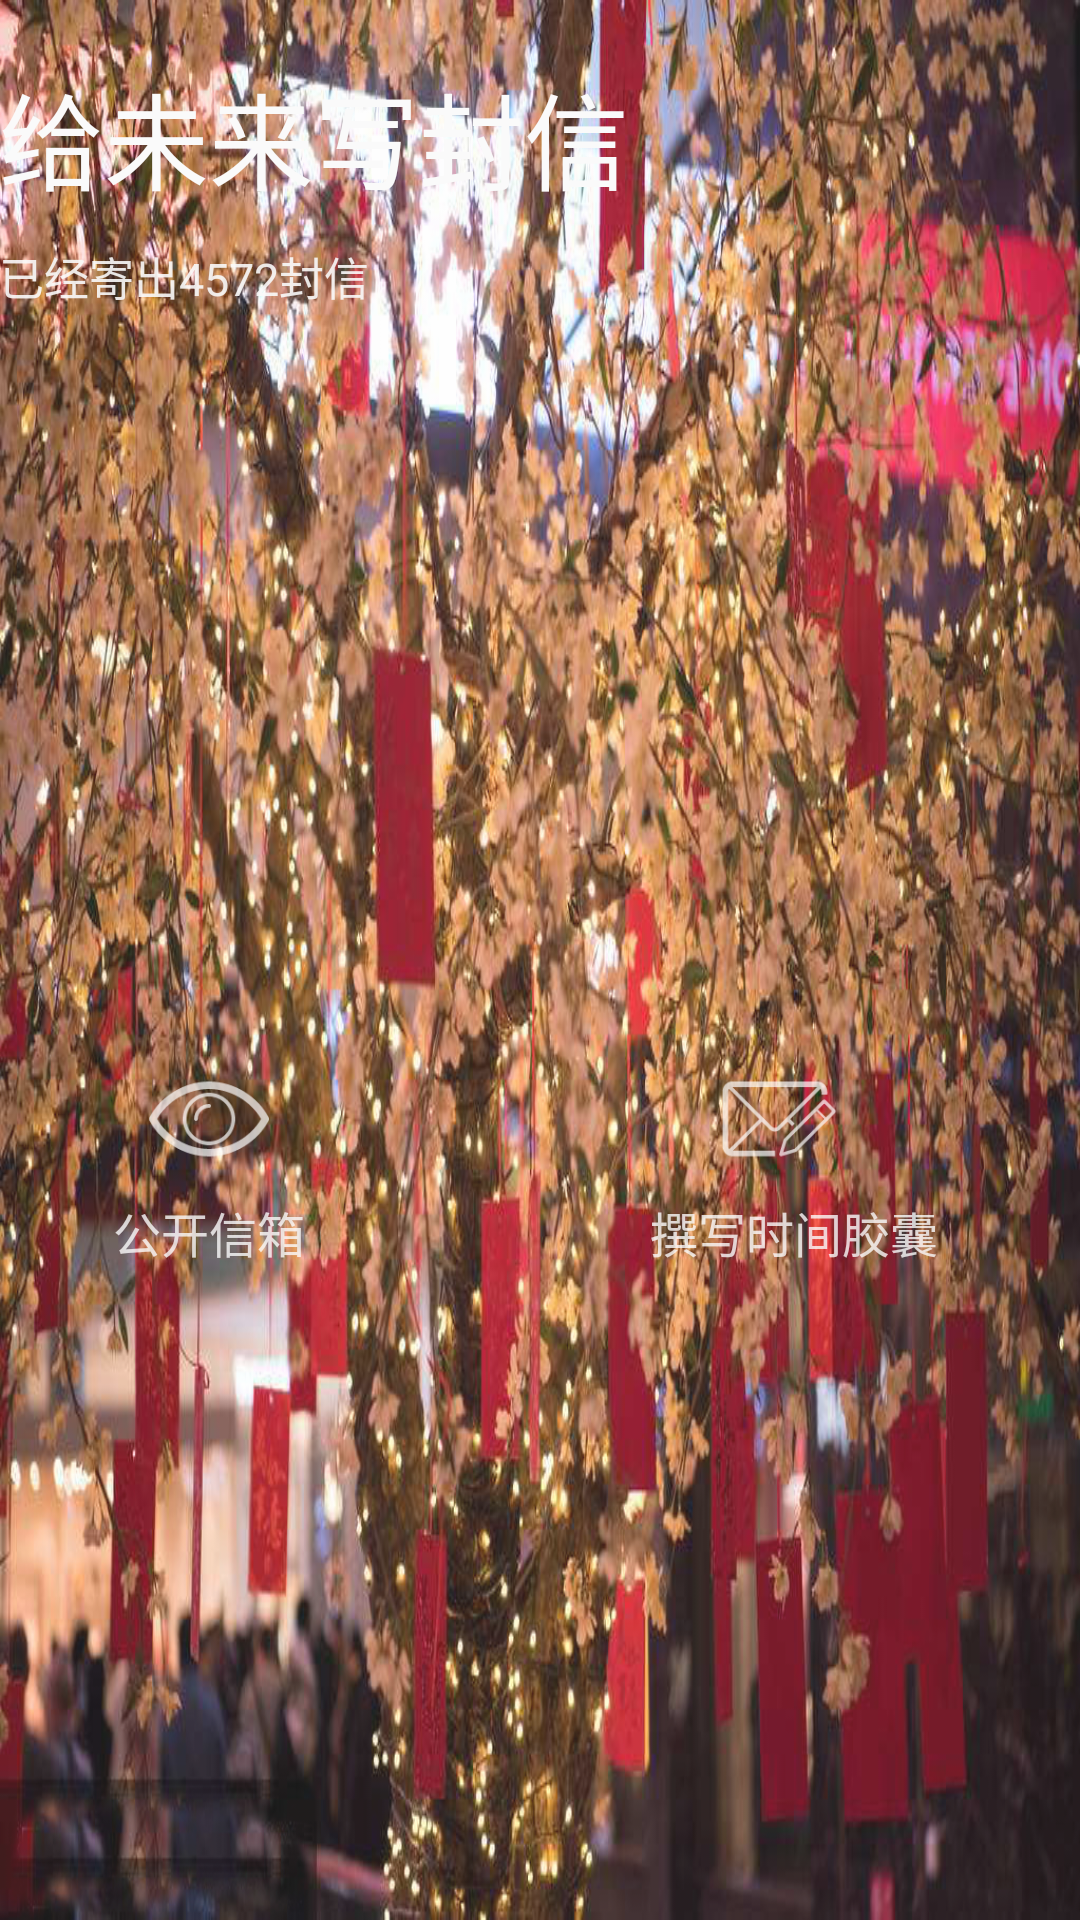

Screen size 1080px x 1920px. Icon name, then its center in pixels as (x=x, y=y):
eye: (x=209, y=1119)
write email: (x=779, y=1119)
